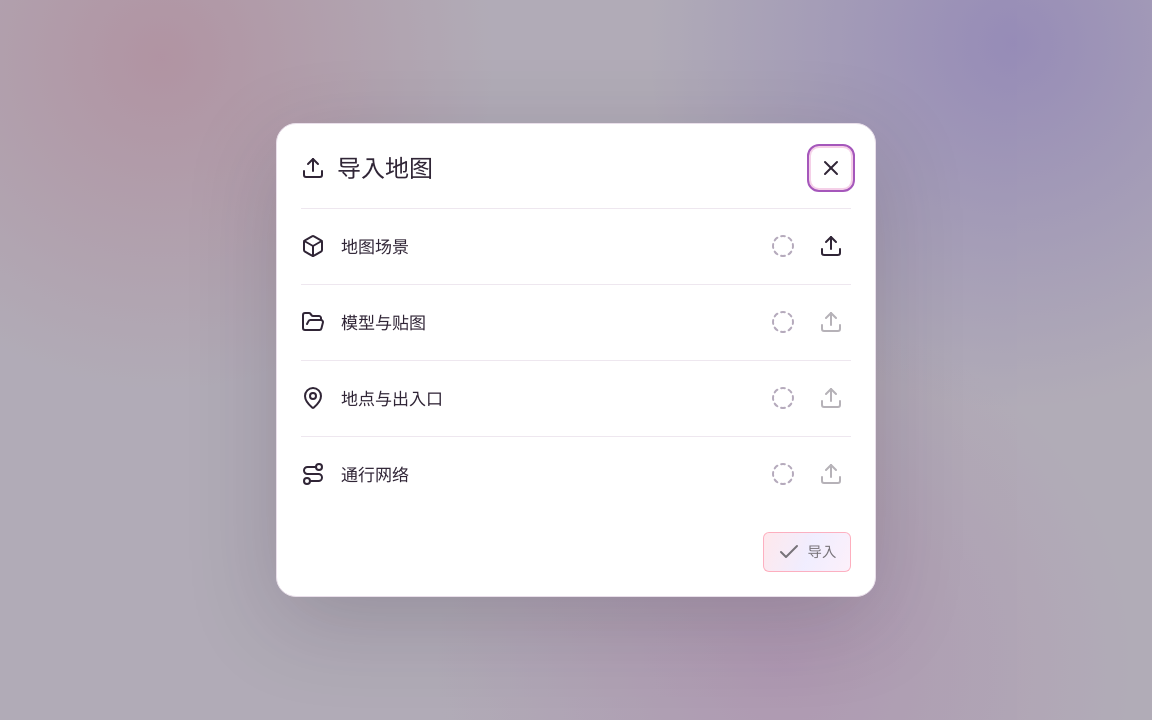
Test: map upload dialog › registers an uploaded map even while flight qualification is pending, without spending AI credits
What coordinates should you click on to do the following:
click the button named "上传 地图场景"
I would click on:
 (831, 246)
Its box is [811,226,851,266].
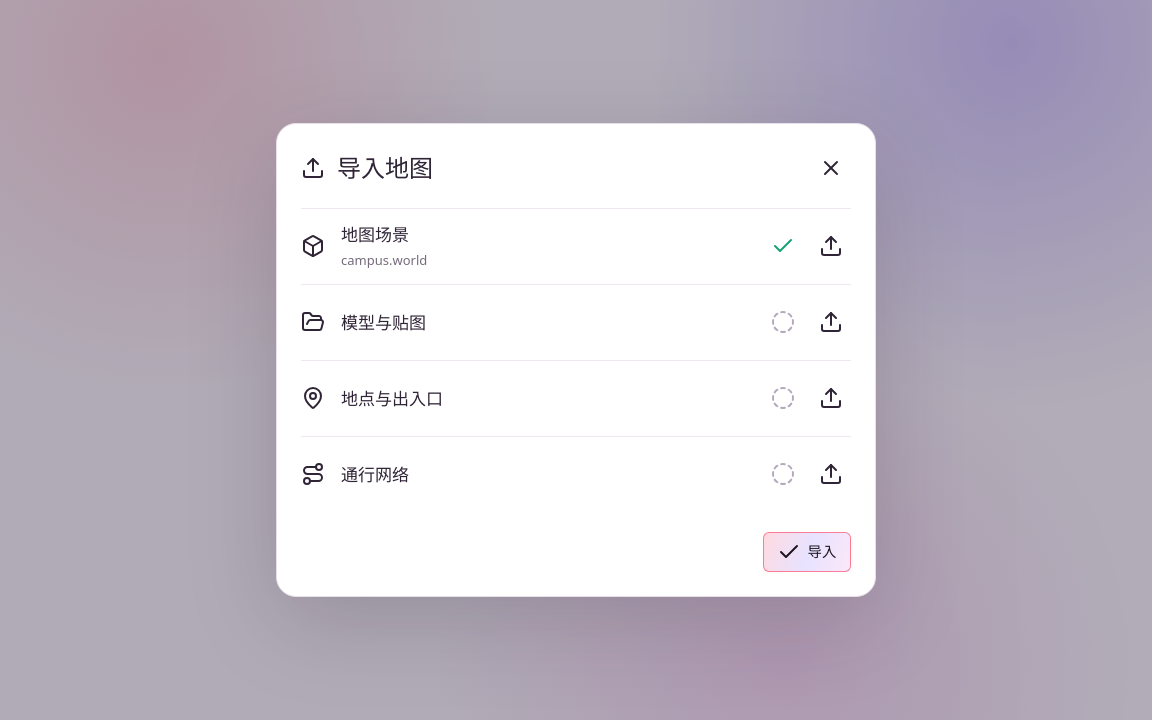
Now the text "campus.world" is shown, box [341,251,427,269]
What coordinates should you click on to do the following:
click the button "导入"
I would click on:
 (807, 552)
Its box is [763,532,851,572].
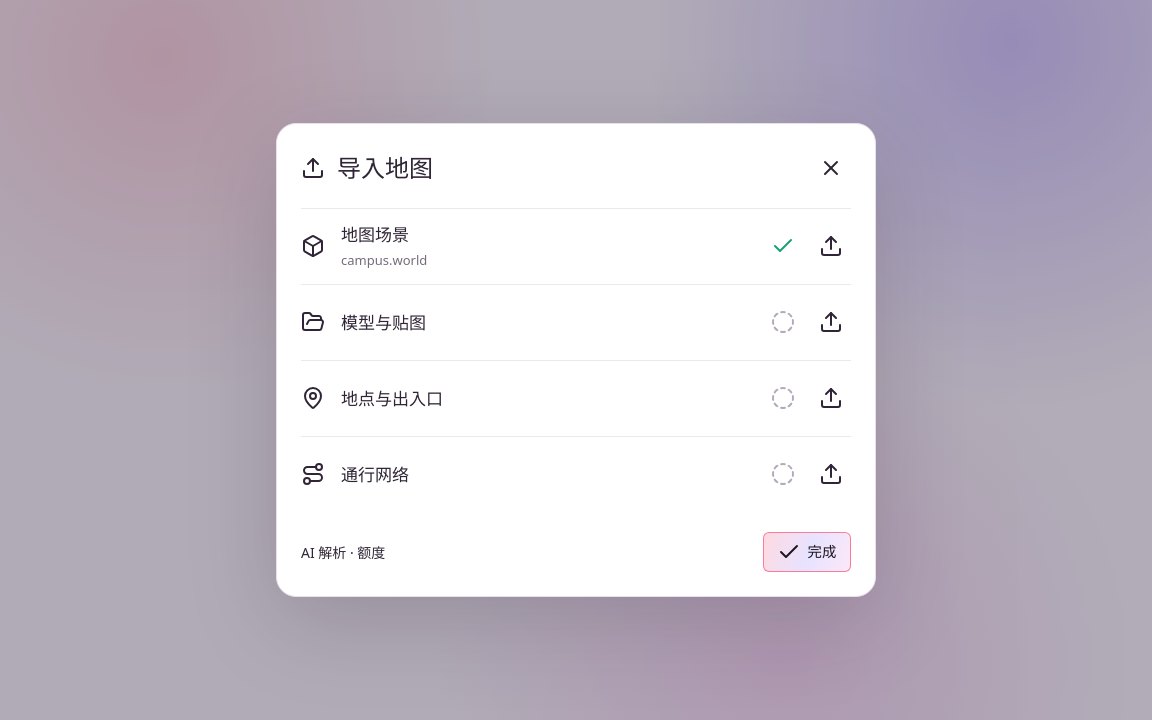
Now the message named "地图场景 · 已上传" is shown, box [771,234,795,258]
Now the button "完成" is shown, box [763,532,851,572]
